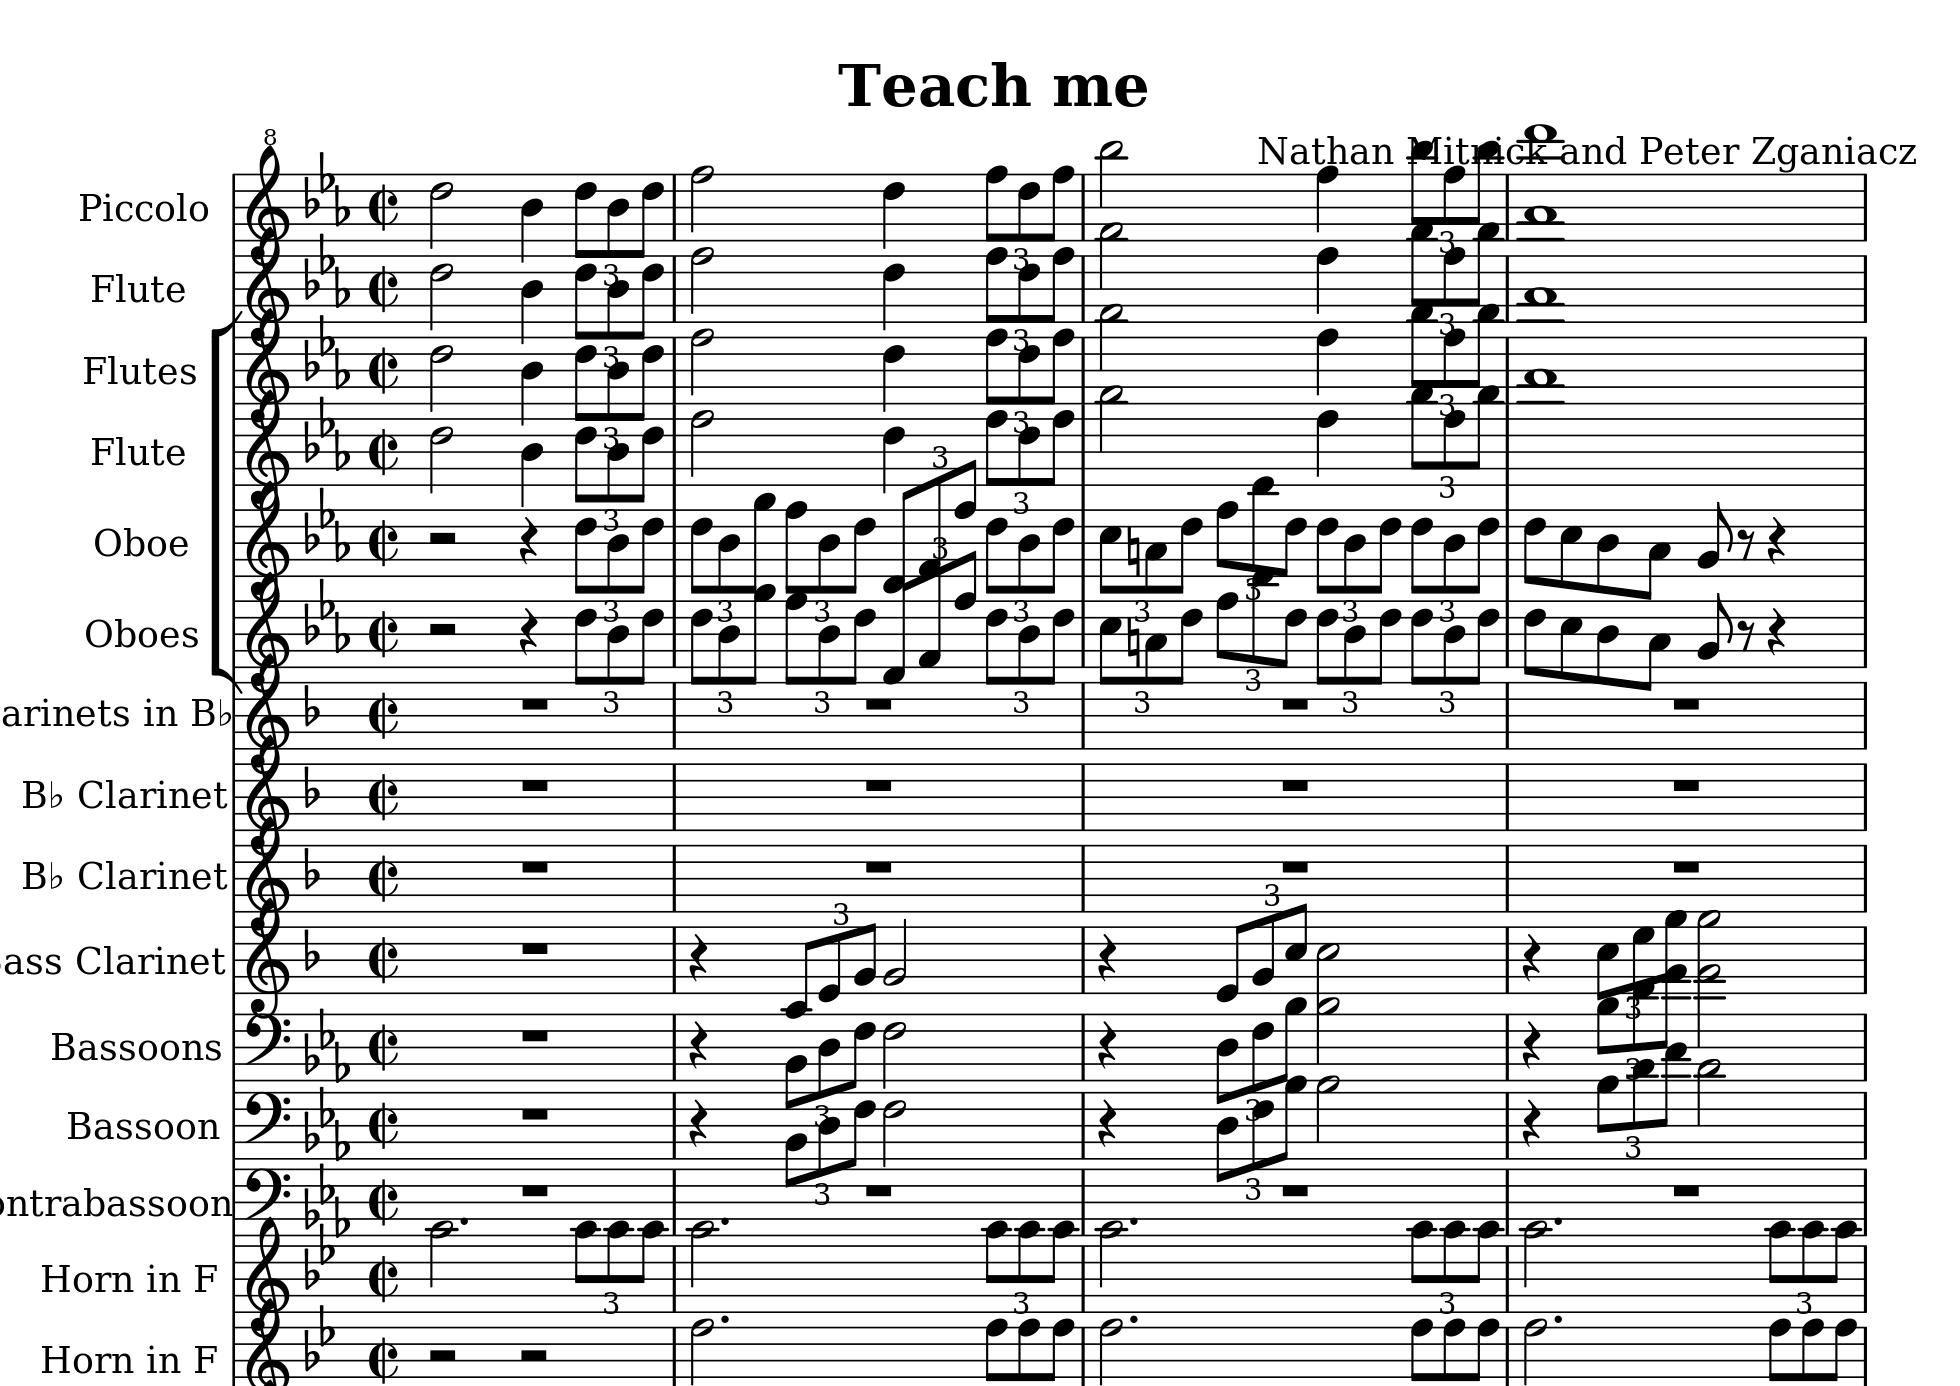2_6: (688, 1309, 715, 1386)
2_8: (688, 163, 717, 241), (688, 241, 715, 321), (690, 403, 714, 487), (690, 322, 715, 399)
3: (1794, 1288, 1813, 1315), (1011, 687, 1029, 715), (1134, 688, 1152, 715)
8_2: (1698, 499, 1734, 579), (1698, 591, 1734, 669)
8_6: (1038, 595, 1078, 685), (1017, 171, 1044, 241)
8_8: (1044, 241, 1078, 327), (1044, 163, 1080, 244), (1215, 499, 1242, 582)
Bass: (64, 1105, 151, 1141), (48, 1027, 135, 1062)
Cl: (76, 774, 115, 814), (75, 853, 114, 894), (73, 940, 112, 979)
E_F: (298, 313, 354, 391), (300, 484, 352, 565), (300, 232, 354, 309), (301, 394, 354, 472), (301, 577, 354, 655), (300, 1006, 352, 1084), (300, 1084, 352, 1162), (301, 148, 352, 228)
Fl: (91, 270, 129, 306), (81, 354, 118, 390), (87, 432, 124, 468)
Flat: (301, 927, 319, 972)
Hn: (36, 1258, 133, 1296), (37, 1342, 136, 1375)
Natural: (1125, 523, 1141, 577), (1126, 615, 1141, 670)
Ob: (84, 616, 136, 654), (91, 523, 144, 559)
Picc: (73, 187, 153, 223)
Rests1: (859, 772, 897, 796), (859, 853, 897, 877), (517, 772, 553, 796), (1278, 772, 1314, 796), (516, 936, 553, 958), (1668, 774, 1704, 796), (517, 855, 553, 877), (1278, 853, 1314, 876), (1278, 693, 1312, 715), (517, 694, 553, 715), (1669, 853, 1705, 874), (517, 1024, 553, 1045), (517, 1102, 553, 1123), (861, 1180, 897, 1201), (1668, 1180, 1705, 1200), (861, 694, 895, 715), (517, 1179, 553, 1198), (1278, 1180, 1314, 1200), (1671, 694, 1704, 714)
Rests2: (514, 1344, 553, 1366), (424, 528, 462, 550), (424, 619, 460, 640), (424, 1344, 460, 1365)
Rests4: (517, 606, 540, 658), (687, 1098, 709, 1150), (1096, 931, 1119, 982), (1096, 1018, 1119, 1069), (1521, 1018, 1543, 1069), (1096, 1098, 1119, 1149), (1521, 1098, 1543, 1149), (517, 514, 538, 565), (688, 931, 709, 982), (1521, 931, 1542, 982), (688, 1018, 709, 1069), (1767, 604, 1786, 655), (1767, 514, 1785, 564)
Rests8: (1737, 616, 1756, 652), (1737, 526, 1755, 562)
Single_barline: (1851, 405, 1875, 486), (1855, 1165, 1878, 1234), (1852, 508, 1872, 574), (1854, 334, 1873, 399), (1857, 1090, 1875, 1159), (1857, 1243, 1875, 1312), (1857, 597, 1873, 669), (1857, 1324, 1876, 1384), (1858, 253, 1875, 324), (1075, 762, 1092, 832), (1858, 925, 1875, 994), (1858, 1012, 1875, 1081), (667, 762, 682, 834), (1500, 172, 1516, 237), (667, 681, 682, 751), (1500, 762, 1515, 832), (1500, 682, 1515, 751), (1077, 925, 1092, 994), (1860, 174, 1875, 241), (1077, 682, 1092, 750), (667, 172, 682, 238), (1860, 679, 1873, 751), (1860, 762, 1873, 832), (1860, 844, 1873, 913), (667, 844, 681, 913), (1077, 844, 1090, 913), (667, 925, 681, 994), (1500, 844, 1513, 912), (1501, 927, 1515, 994), (1077, 1246, 1090, 1312), (1077, 1327, 1092, 1386), (1501, 1327, 1516, 1386), (667, 1327, 682, 1384), (1077, 172, 1090, 235), (669, 1246, 681, 1312), (1503, 1246, 1515, 1312)
TimeSig: (367, 679, 400, 750), (367, 843, 400, 913), (367, 924, 400, 994), (367, 1243, 400, 1314), (367, 172, 400, 241), (367, 336, 400, 405), (367, 1012, 400, 1081), (367, 1167, 400, 1236), (367, 418, 400, 486), (367, 508, 400, 576), (366, 601, 399, 669), (367, 763, 400, 831), (367, 256, 400, 322), (367, 1093, 399, 1159)
dot: (457, 1216, 468, 1228), (1554, 1215, 1563, 1228)
